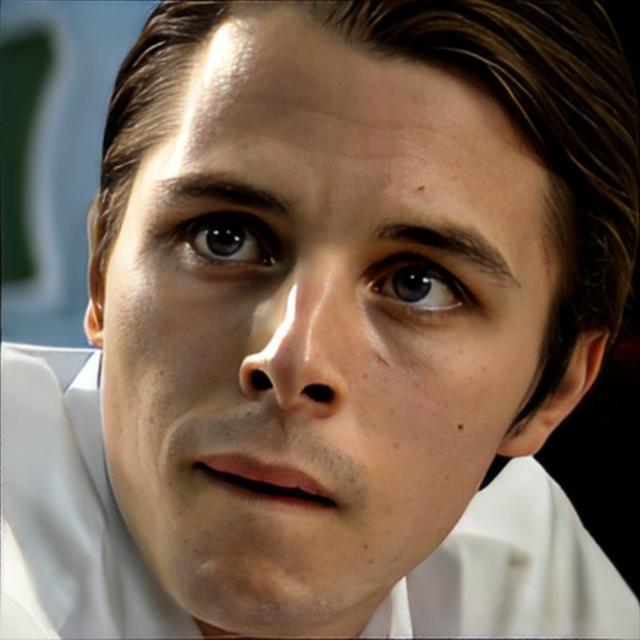surprise: (100, 0, 560, 613)
